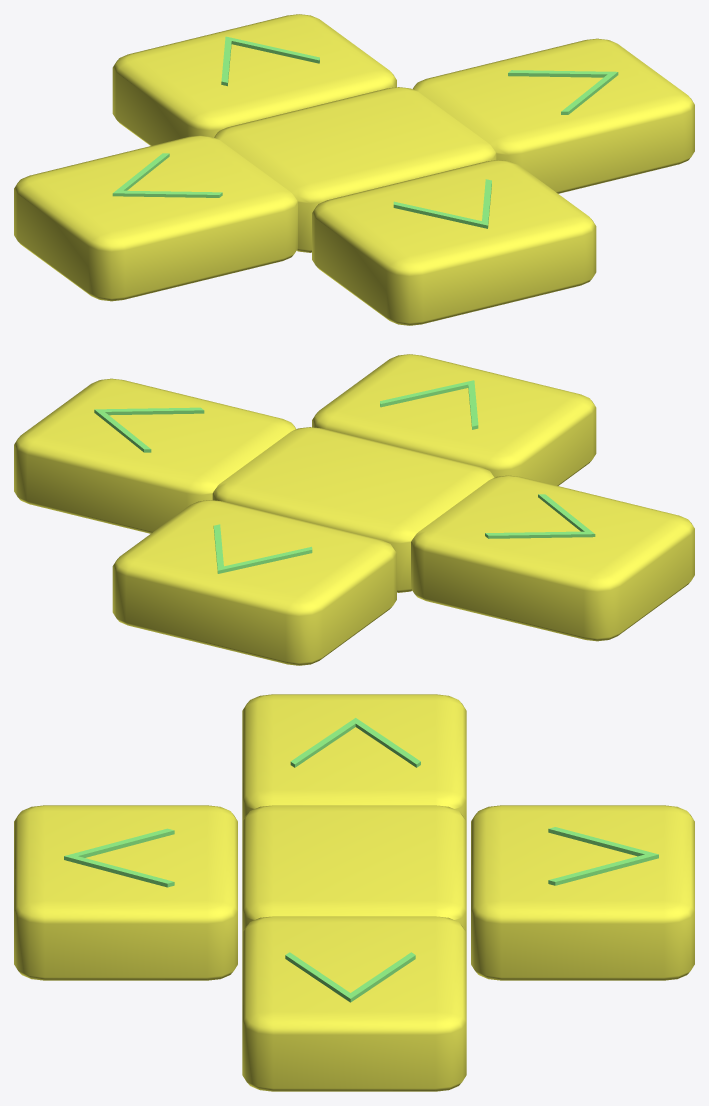
Rendered from MCube.FBX.
The picture shows the model from 3 angles, top to bottom: view 1: azimuth 30°, elevation 25°; view 2: azimuth 150°, elevation 25°; view 3: azimuth 270°, elevation 25°; orthographic projection. The views are drawn at different scales.
Visible parts, largest first — view 1: Text004; view 2: Text004; view 3: Text004.
Part boxes in pixels (x1,y1,x2,y2): Text004: [14, 14, 694, 325]; Text004: [14, 354, 694, 665]; Text004: [14, 694, 694, 1091].
Size of the model in its own units: 6.99 by 0.7487 by 5.96.
